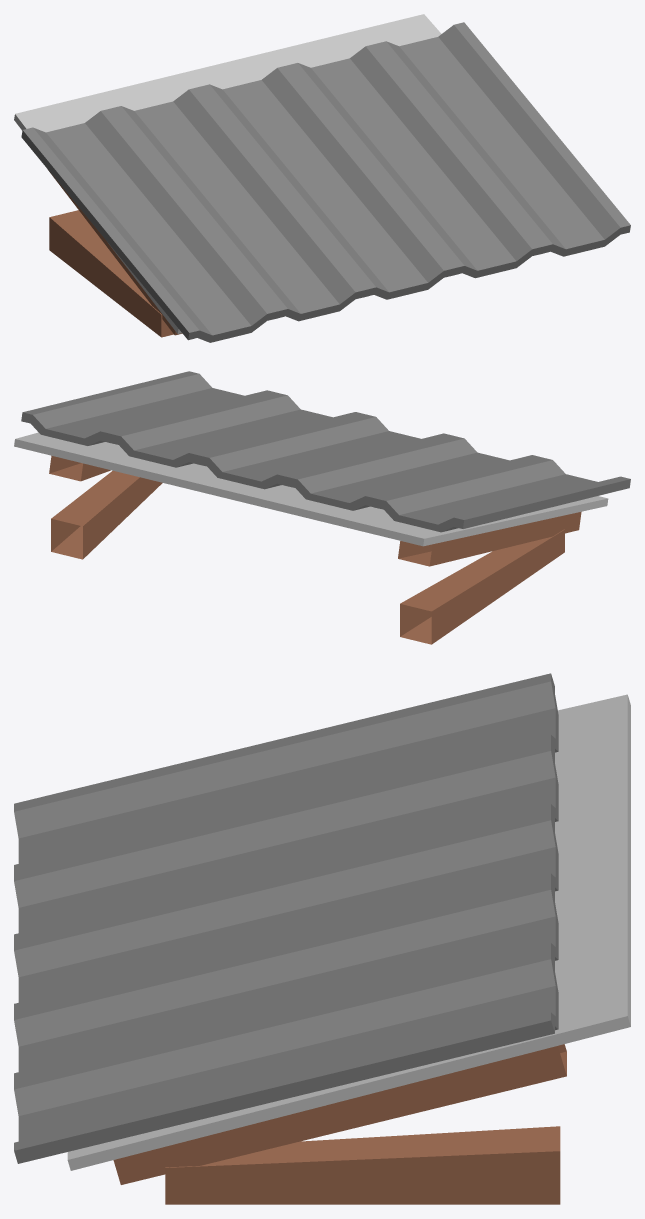
File: House (Visor).fbx
3 views of the same model, one above another, from view 1: azimuth 30°, elevation 25°; view 2: azimuth 150°, elevation 25°; view 3: azimuth 270°, elevation 25° (orthographic). The views are drawn at different scales.
Parts seen in each view (by area): view 1: House (Visor); view 2: House (Visor); view 3: House (Visor).
Part boxes in pixels (x1,y1,x2,y2): House (Visor): [14, 14, 630, 342]; House (Visor): [14, 371, 630, 644]; House (Visor): [14, 673, 630, 1204].
Bounding box in the file's own units: 544 × 153 × 408.
